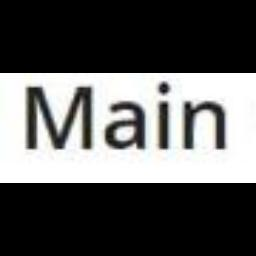m: (21, 83, 97, 155)
